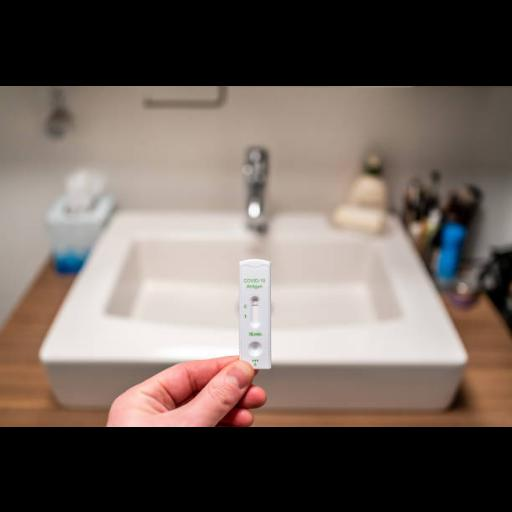Neg: (240, 258, 270, 368)
